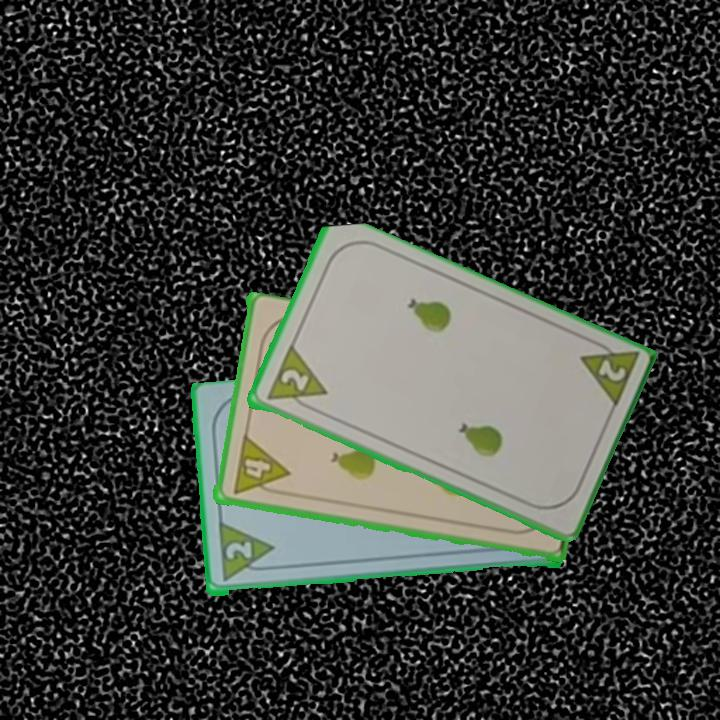2p: (575, 334, 641, 413), (262, 344, 329, 417), (214, 521, 277, 585)
4p: (229, 433, 291, 499)
